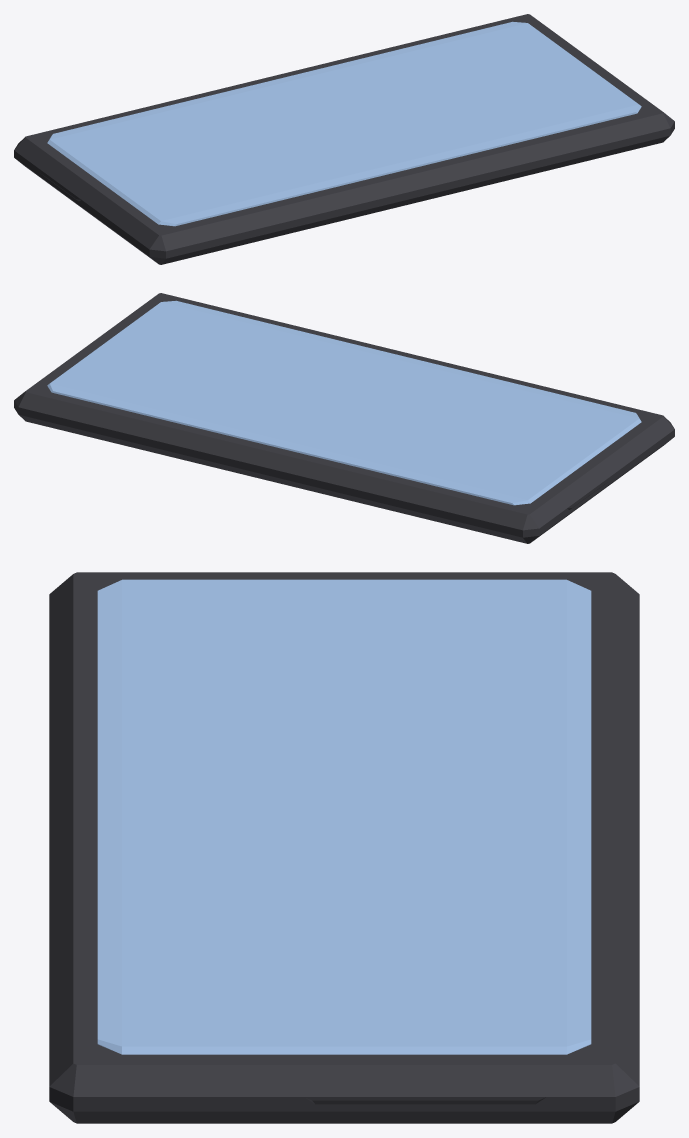
Rendered from smartphone-61.glb.
3 views of the same model, one above another, from view 1: azimuth 30°, elevation 25°; view 2: azimuth 150°, elevation 25°; view 3: azimuth 270°, elevation 25° (orthographic). The views are drawn at different scales.
Visible parts, largest first — view 1: smartphone-61; view 2: smartphone-61; view 3: smartphone-61.
Boxes of the visible parts, left/top/right/bottom form: smartphone-61: left=14, top=14, right=674, bottom=264; smartphone-61: left=14, top=293, right=674, bottom=543; smartphone-61: left=49, top=572, right=639, bottom=1123.
Size of the model in its own units: 0.152 by 0.0146 by 0.073.
